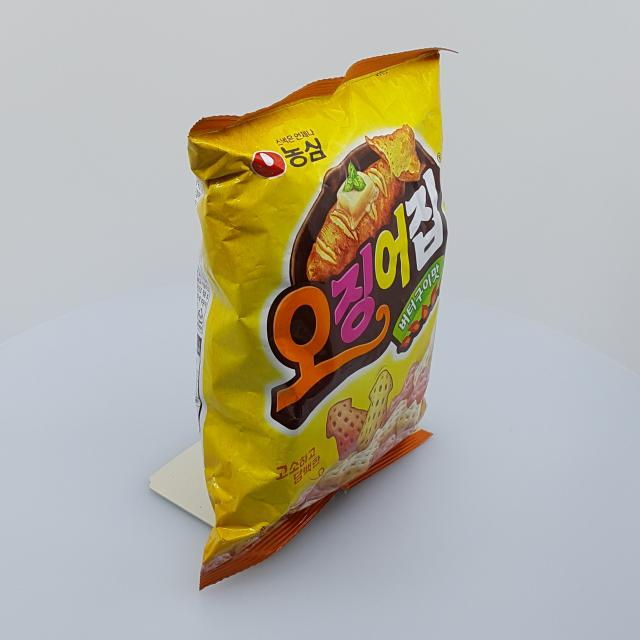-83G: (189, 48, 460, 591)
